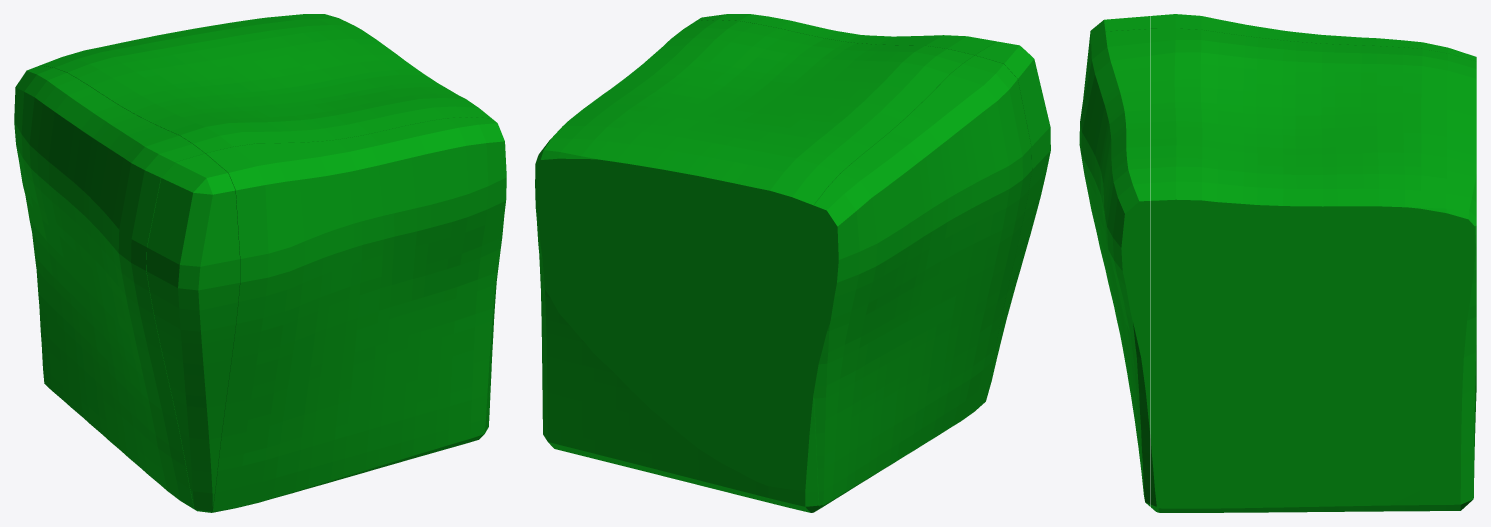
File: 4by10beveledsubdivided.040.fbx
The picture shows the model from 3 angles, left to right: view 1: azimuth 30°, elevation 25°; view 2: azimuth 150°, elevation 25°; view 3: azimuth 270°, elevation 25°; orthographic projection. The views are drawn at different scales.
Parts seen in each view (by area): view 1: 4by10beveledsubdivided.040; view 2: 4by10beveledsubdivided.040; view 3: 4by10beveledsubdivided.040.
Boxes of the visible parts, bbox=[...] form: 4by10beveledsubdivided.040: bbox=[14, 14, 506, 512]; 4by10beveledsubdivided.040: bbox=[535, 14, 1050, 512]; 4by10beveledsubdivided.040: bbox=[1079, 14, 1476, 512].
Size of the model in its own units: 243 by 239 by 244.
